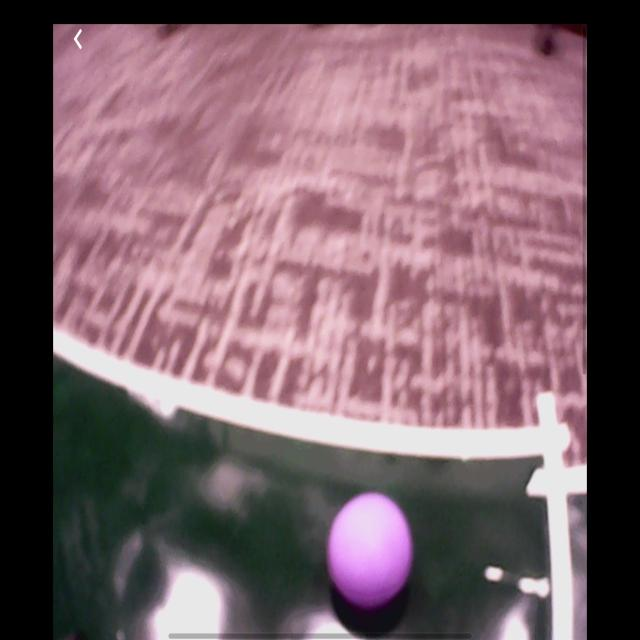ball: (328, 492, 413, 605)
